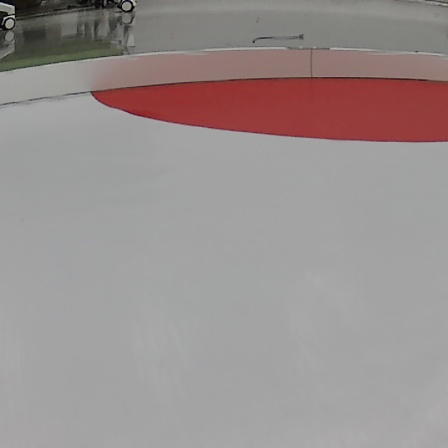red_base: (86, 75, 448, 144)
